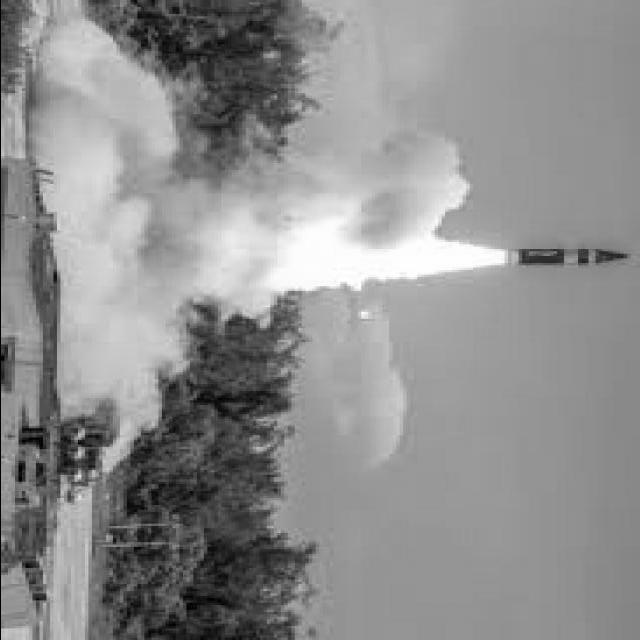Missile: (511, 241, 640, 274)
